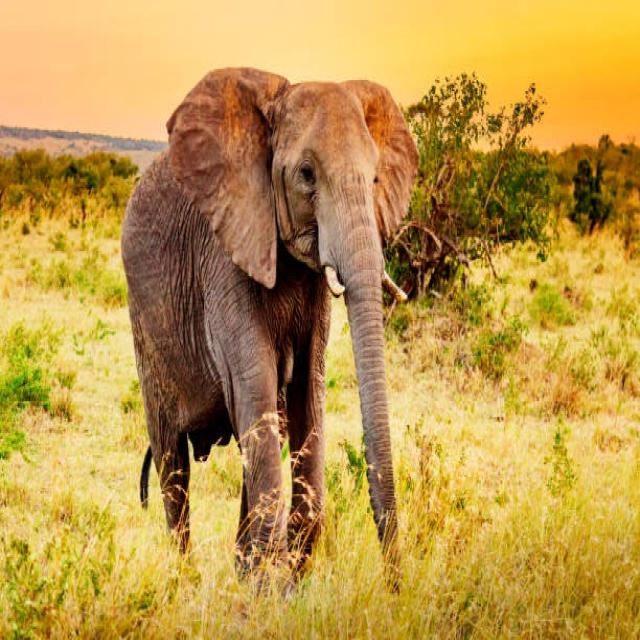Elephant: (119, 42, 474, 620)
